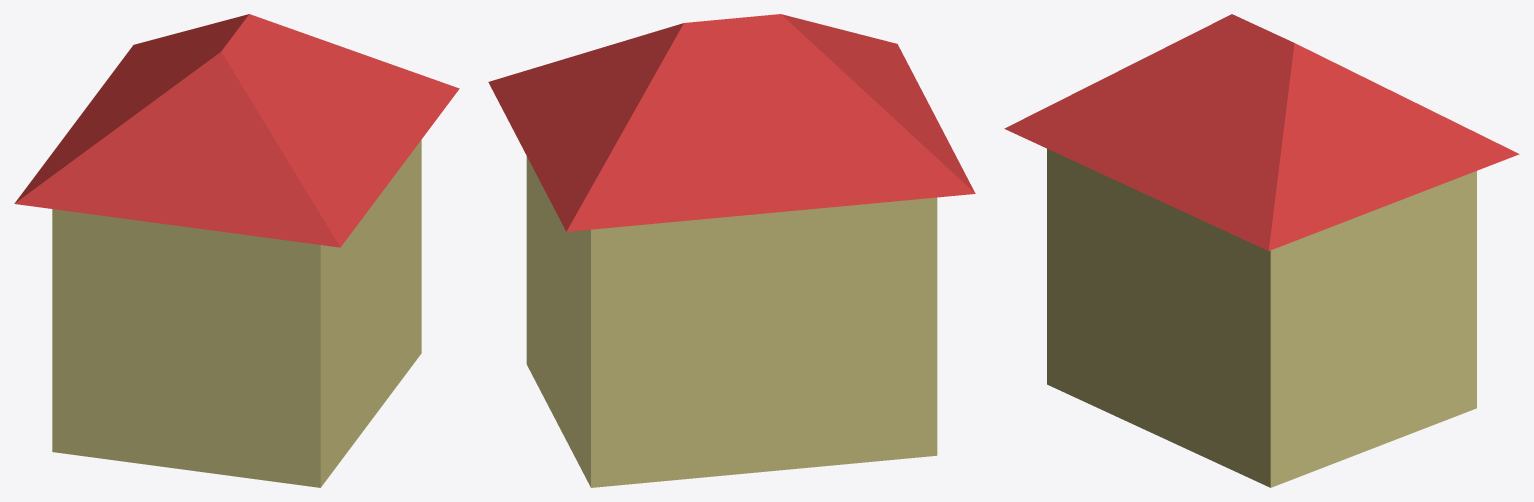
3 renders of one model, left to right at view 1: azimuth 30°, elevation 25°; view 2: azimuth 150°, elevation 25°; view 3: azimuth 270°, elevation 25°, orthographic. The views are drawn at different scales.
Parts seen in each view (by area): view 1: group_5, group_3, group_4; view 2: group_5, group_3, group_4; view 3: group_5, group_3, group_4.
Part boxes in pixels (<box>): group_5: <box>52,140,421,487</box>; group_3: <box>16,14,459,247</box>; group_4: <box>14,39,454,247</box>; group_5: <box>526,156,937,487</box>; group_3: <box>528,14,972,231</box>; group_4: <box>488,38,975,231</box>; group_5: <box>1047,149,1476,487</box>; group_3: <box>1004,14,1473,250</box>; group_4: <box>1008,106,1519,250</box>.
Size of the model in its own units: 17.13 by 17.02 by 13.38.
